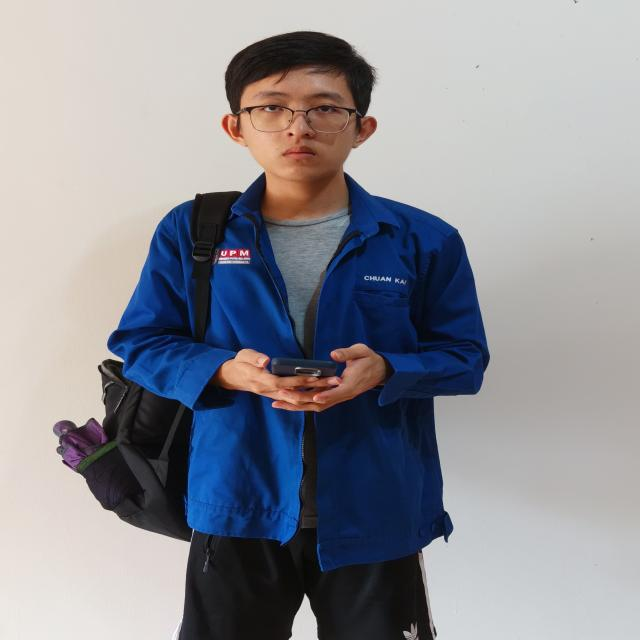person_with_labcoat: (55, 32, 489, 640)
